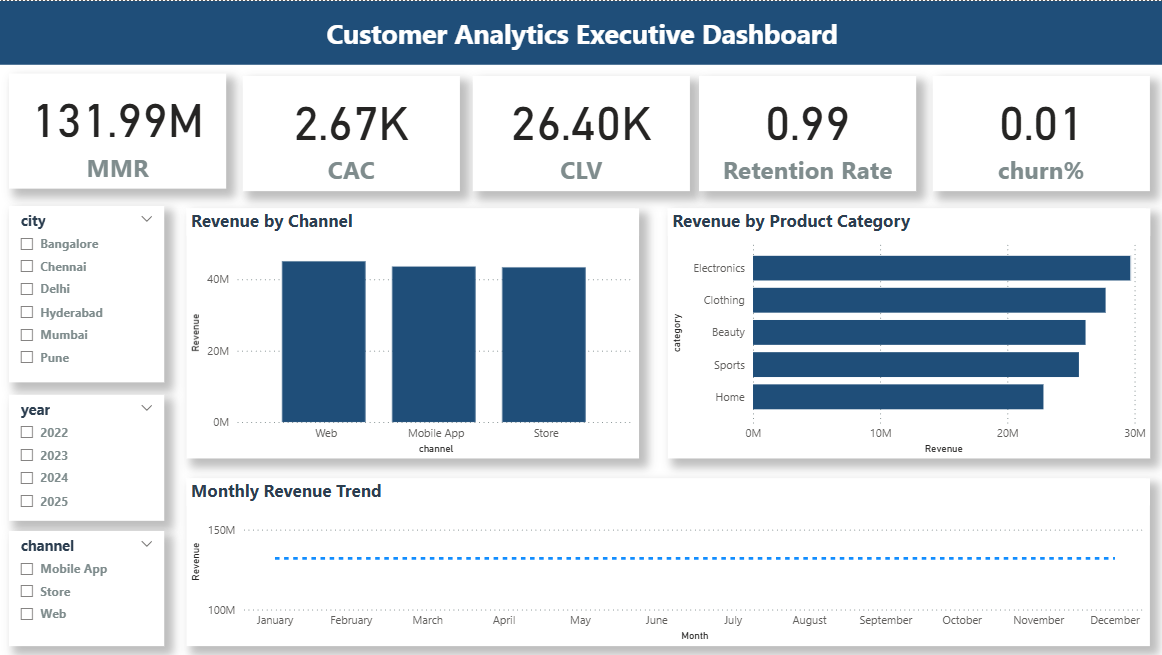

This screenshot's page, from the dashboard's own definition file:
{"tool":"powerbi","page":{"name":"Executive Dashboard","canvas":[1280,720],"ordinal":0},"visuals":[{"type":"shape","box":[0,0,1280.3,70],"z":0},{"type":"card","fields":{"Values":["public orders_fact.MMR"]},"box":[11,79.6,238.8,126.2],"z":1000},{"type":"card","fields":{"Values":["public orders_fact.CAC"]},"box":[267.6,82.3,238.8,126.2],"z":2000},{"type":"card","fields":{"Values":["public association_rules.CLV"]},"box":[520.1,82.3,238.8,126.2],"z":3000},{"type":"card","fields":{"Values":["public orders_fact.Retention Rate"]},"box":[768.4,82.3,238.8,126.2],"z":4000},{"type":"card","fields":{"Values":["public orders_fact.churn%"]},"box":[1025,82.3,238.8,126.2],"z":5000},{"type":"slicer","title":"l","fields":{"Values":["public customers.city"]},"box":[11,225,170.2,193.5],"z":6000},{"type":"slicer","title":" Revenue by Channel","fields":{"Values":["public dim_date.year"]},"box":[11,432.2,170.2,138.6],"z":7000},{"type":"slicer","title":" Revenue by Channel","fields":{"Values":["public orders_fact.channel"]},"box":[11,581.8,170.2,126.2],"z":8000},{"type":"columnChart","title":" Revenue by Channel","fields":{"Category":["public orders_fact.channel"],"Y":["public orders_fact.Revenue"]},"box":[205.8,227.8,496.7,274.4],"z":9000},{"type":"clusteredBarChart","title":" Revenue by Product Category","fields":{"Y":["public orders_fact.Revenue"],"Category":["public dim_products.category"]},"box":[734.1,227.8,529.7,274.4],"z":10000},{"type":"lineChart","title":"Monthly Revenue Trend","fields":{"Y":["public orders_fact.Total_customers"],"Category":["public orders_fact.order_date.Variation.Date Hierarchy.Month"]},"box":[205.4,524.6,1059,183.4],"z":11000}]}

Visuals, with their boxes in screenshot pixels (x1, y1, x2, y2), scaled from the page's 1280x720 canvas onto the 1162x655 screenshot:
shape: x1=0 y1=0 x2=1161 y2=64
card - public orders_fact.MMR: x1=10 y1=72 x2=227 y2=187
card - public orders_fact.CAC: x1=243 y1=75 x2=460 y2=190
card - public association_rules.CLV: x1=472 y1=75 x2=689 y2=190
card - public orders_fact.Retention Rate: x1=698 y1=75 x2=914 y2=190
card - public orders_fact.churn%: x1=931 y1=75 x2=1147 y2=190
"l" slicer: x1=10 y1=205 x2=164 y2=381
" Revenue by Channel" slicer: x1=10 y1=393 x2=164 y2=519
" Revenue by Channel" slicer: x1=10 y1=529 x2=164 y2=644
" Revenue by Channel" columnChart: x1=187 y1=207 x2=638 y2=457
" Revenue by Product Category" clusteredBarChart: x1=666 y1=207 x2=1147 y2=457
"Monthly Revenue Trend" lineChart: x1=186 y1=477 x2=1148 y2=644
